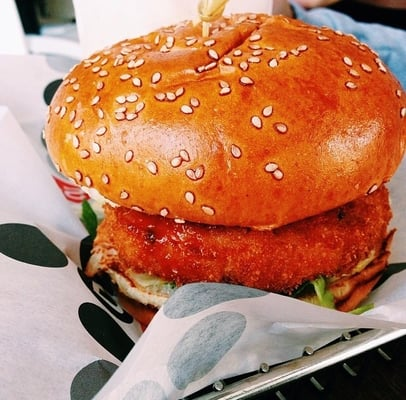sandwich: (177, 326, 405, 397)
soup: (43, 12, 406, 335)
